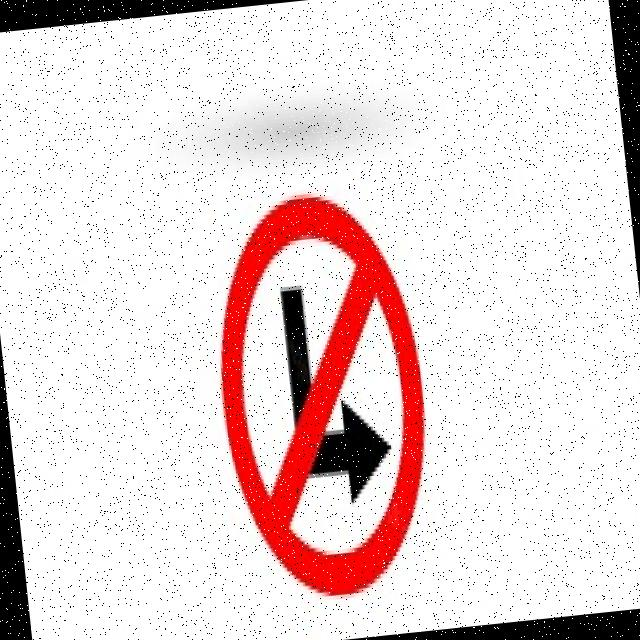do_not_turn_right: (197, 178, 446, 614)
